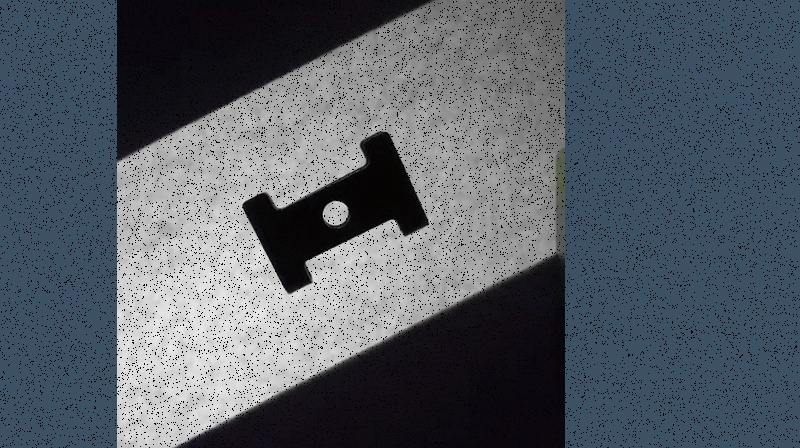O002: (239, 125, 430, 298)
